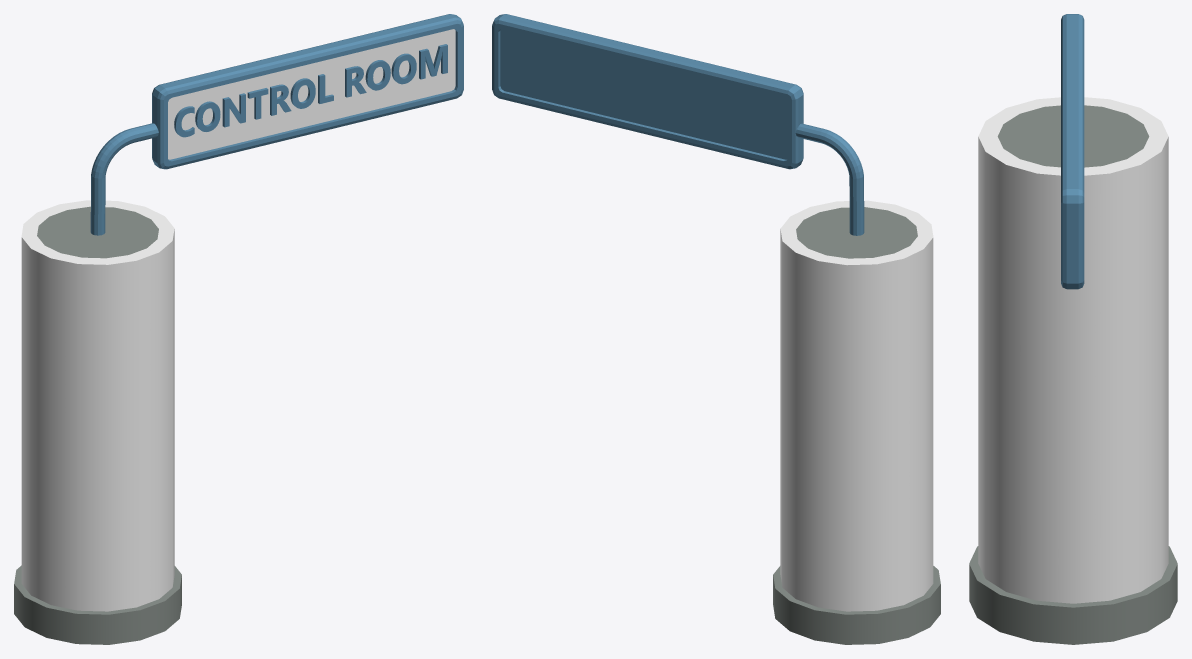
The model's file is Control_Room_Poster.fbx.
3 views of the same model, side by side, from view 1: azimuth 30°, elevation 25°; view 2: azimuth 150°, elevation 25°; view 3: azimuth 270°, elevation 25° (orthographic). The views are drawn at different scales.
Parts seen in each view (by area): view 1: polySurface11, polySurface4, typeMesh1; view 2: polySurface11, polySurface4; view 3: polySurface11, polySurface4.
Boxes of the visible parts, x1,y1,x2,y2 form: polySurface11: [14, 200, 181, 644]; polySurface4: [90, 14, 463, 235]; typeMesh1: [174, 44, 447, 137]; polySurface11: [773, 200, 940, 644]; polySurface4: [492, 14, 864, 235]; polySurface11: [969, 97, 1177, 644]; polySurface4: [1061, 14, 1084, 289].
Bounding box in the file's own units: 288 × 320 × 96.81.
1 material, 1 textured.
